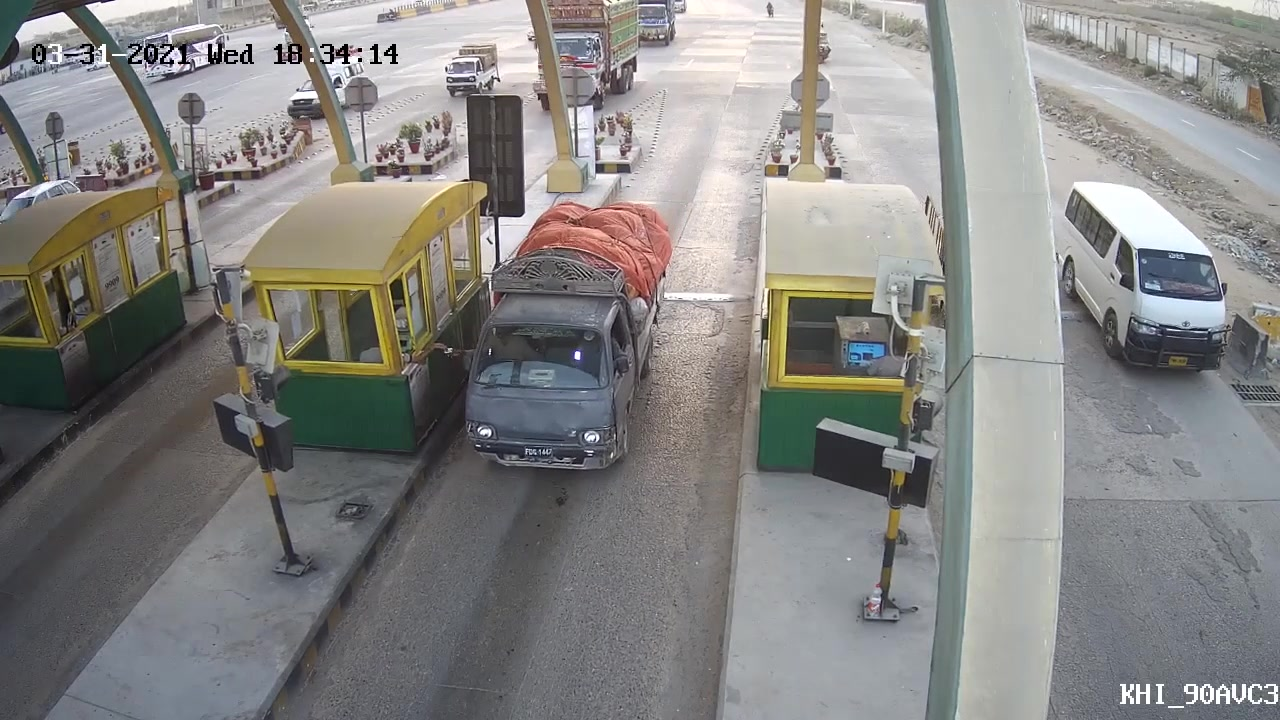F2: (449, 222, 667, 483)
